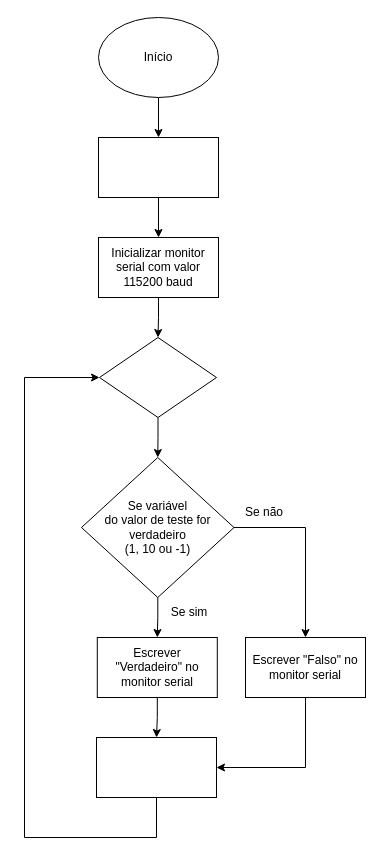
Image size: 383x863. Some labels were removed from this diagram. Each missing label, with the box of its shape:
Definir delay de 1000 ms: (96, 736, 216, 798)
Definir variável do valor de teste como 0, 1, 10 ou -1: (98, 136, 218, 198)
Repetir sempre: (98, 336, 216, 418)
